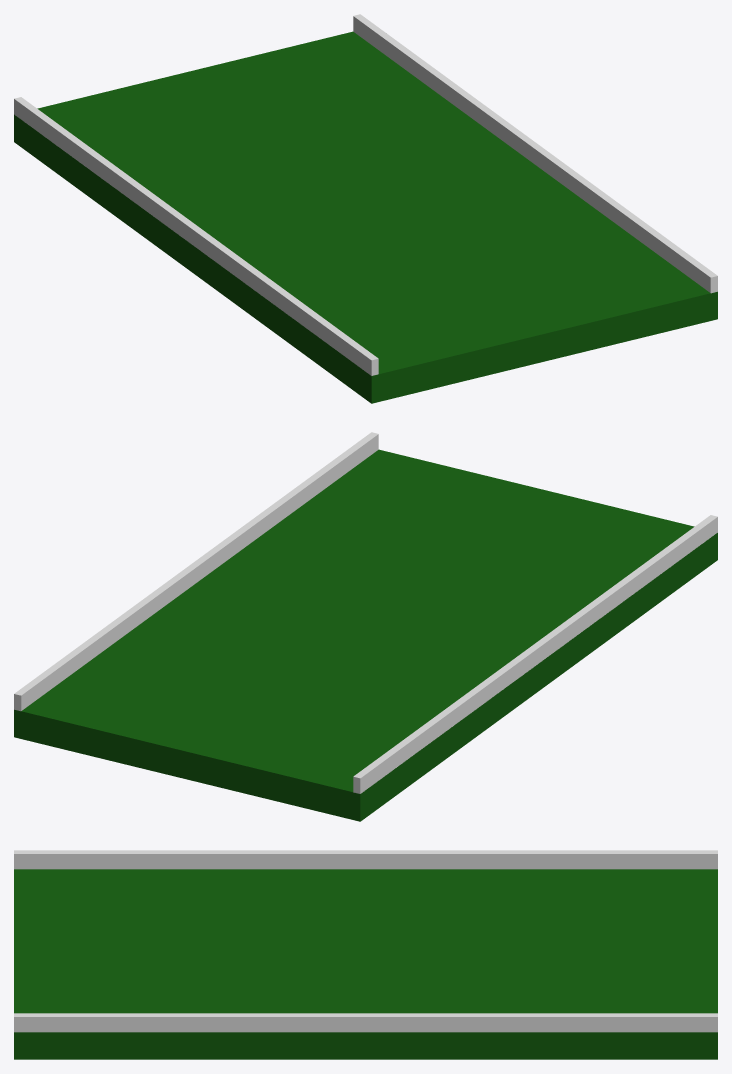
File: Platform.fbx
3 renders of one model, top to bottom at view 1: azimuth 30°, elevation 25°; view 2: azimuth 150°, elevation 25°; view 3: azimuth 270°, elevation 25°, orthographic.
Parts seen in each view (by area): view 1: yol.001; view 2: yol.001; view 3: yol.001.
Boxes of the visible parts, x1,y1,x2,y2 form: yol.001: [14, 14, 717, 403]; yol.001: [14, 432, 717, 821]; yol.001: [14, 850, 717, 1059].
Size of the model in its own units: 392 by 46.86 by 700.
